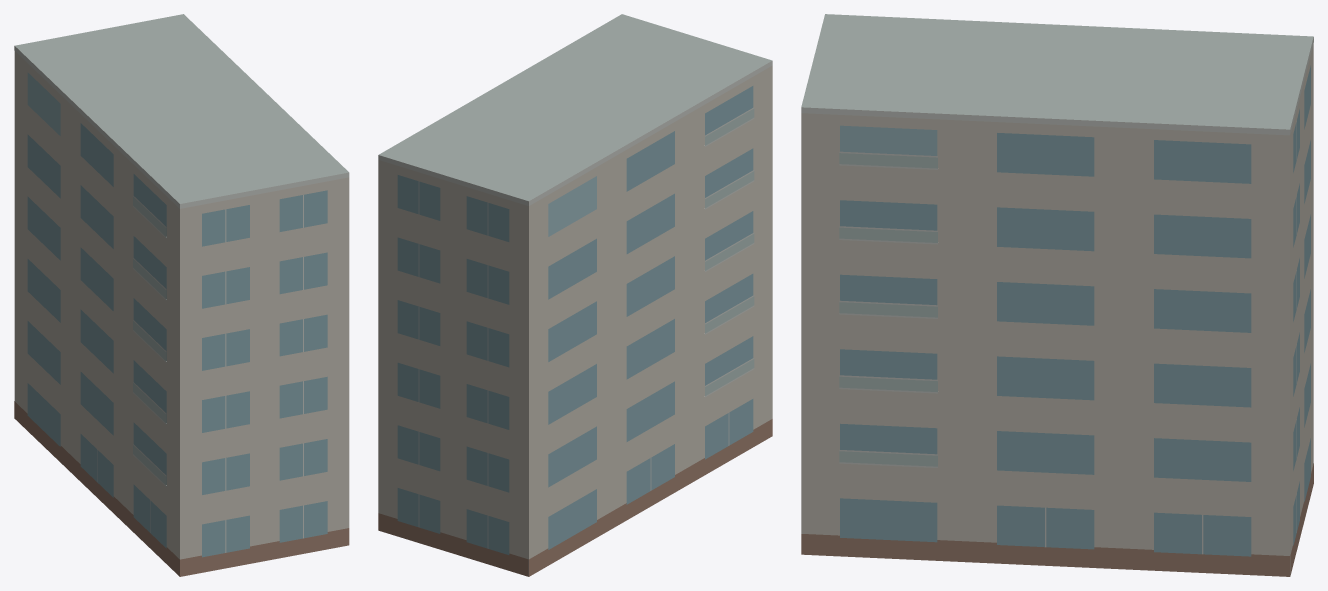
The model's file is survey-upis-32941339.glb.
3 renders of one model, left to right at view 1: azimuth 30°, elevation 25°; view 2: azimuth 150°, elevation 25°; view 3: azimuth 270°, elevation 25°, orthographic. The views are drawn at different scales.
Parts seen in each view (by area): view 1: survey-upis-32941339.tmp; view 2: survey-upis-32941339.tmp; view 3: survey-upis-32941339.tmp.
Boxes of the visible parts, x1,y1,x2,y2 form: survey-upis-32941339.tmp: (14,14,349,576); survey-upis-32941339.tmp: (378,14,772,576); survey-upis-32941339.tmp: (801,14,1313,576).
Size of the model in its own units: 10.44 by 18.8 by 19.54.
